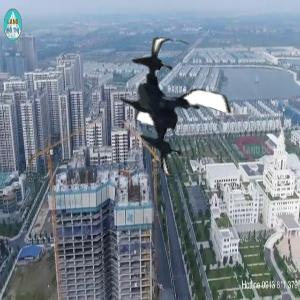drone: (103, 40, 238, 175)
